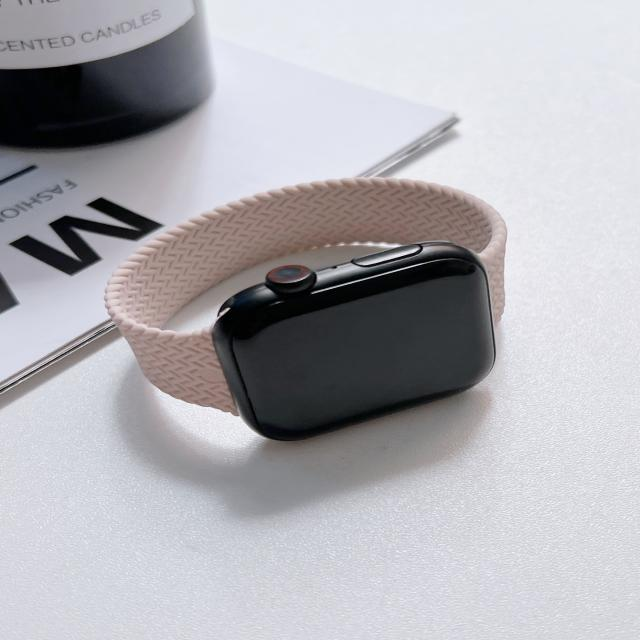bracelet: (70, 124, 560, 444)
